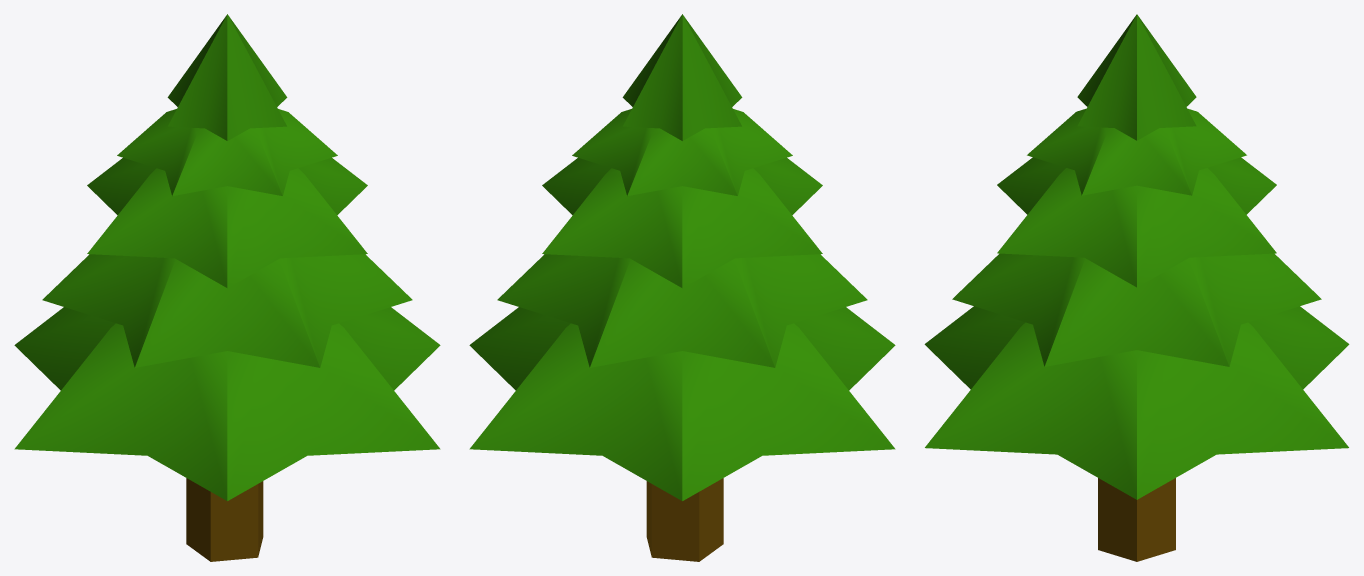
The model's file is Pine Tree.fbx.
3 renders of one model, left to right at view 1: azimuth 30°, elevation 25°; view 2: azimuth 150°, elevation 25°; view 3: azimuth 270°, elevation 25°, orthographic.
Parts seen in each view (by area): view 1: Leaves, Trunk; view 2: Leaves, Trunk; view 3: Leaves, Trunk.
Part boxes in pixels (bbox=[...]): Leaves: bbox=[14, 14, 440, 500]; Trunk: bbox=[186, 478, 263, 561]; Leaves: bbox=[469, 14, 895, 500]; Trunk: bbox=[646, 478, 723, 561]; Leaves: bbox=[924, 14, 1349, 499]; Trunk: bbox=[1098, 478, 1175, 561].
Bounding box in the file's own units: 11.92 × 14.22 × 10.33.
